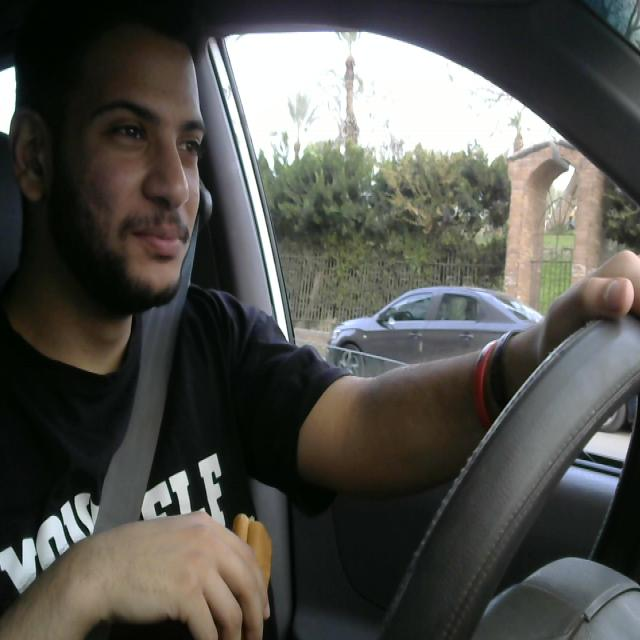eating: (214, 509, 276, 640)
